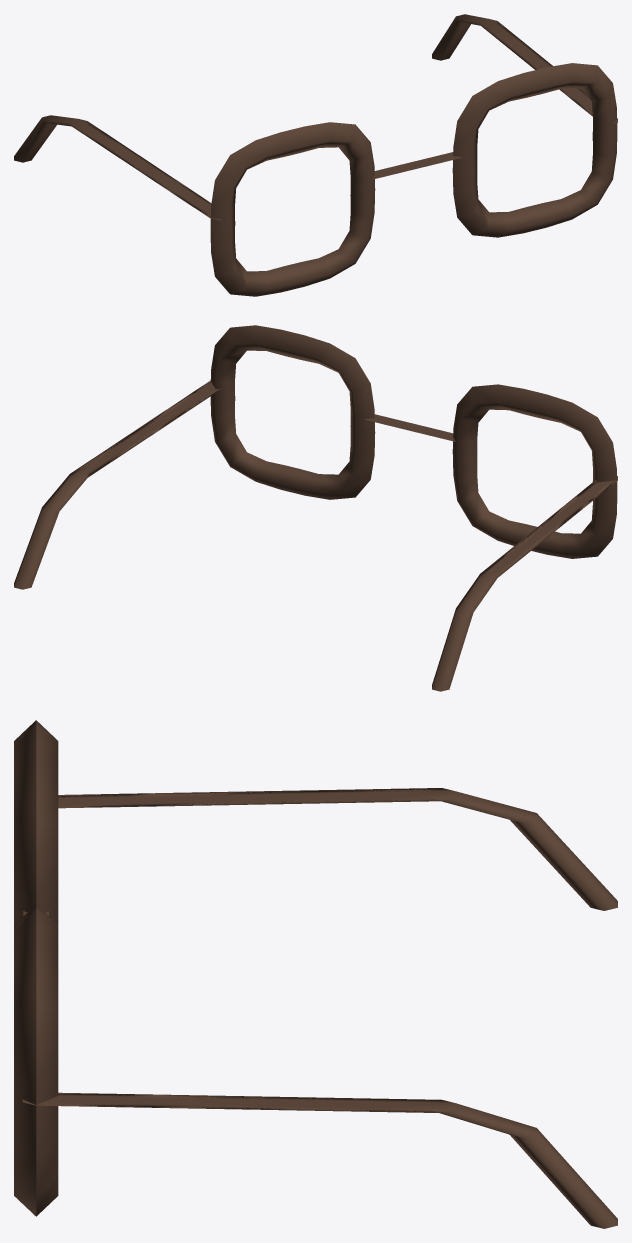
The model's file is glasses_square_meta.glb.
3 renders of one model, top to bottom at view 1: azimuth 30°, elevation 25°; view 2: azimuth 150°, elevation 25°; view 3: azimuth 270°, elevation 25°, orthographic. The views are drawn at different scales.
Visible parts, largest first — view 1: glasses_square; view 2: glasses_square; view 3: glasses_square.
Part boxes in pixels (x1=…): glasses_square: x1=14, y1=14, x2=617, y2=296; glasses_square: x1=14, y1=325, x2=617, y2=691; glasses_square: x1=14, y1=720, x2=617, y2=1228.
Bounding box in the file's own units: 0.1587 × 0.0558 × 0.1223.
